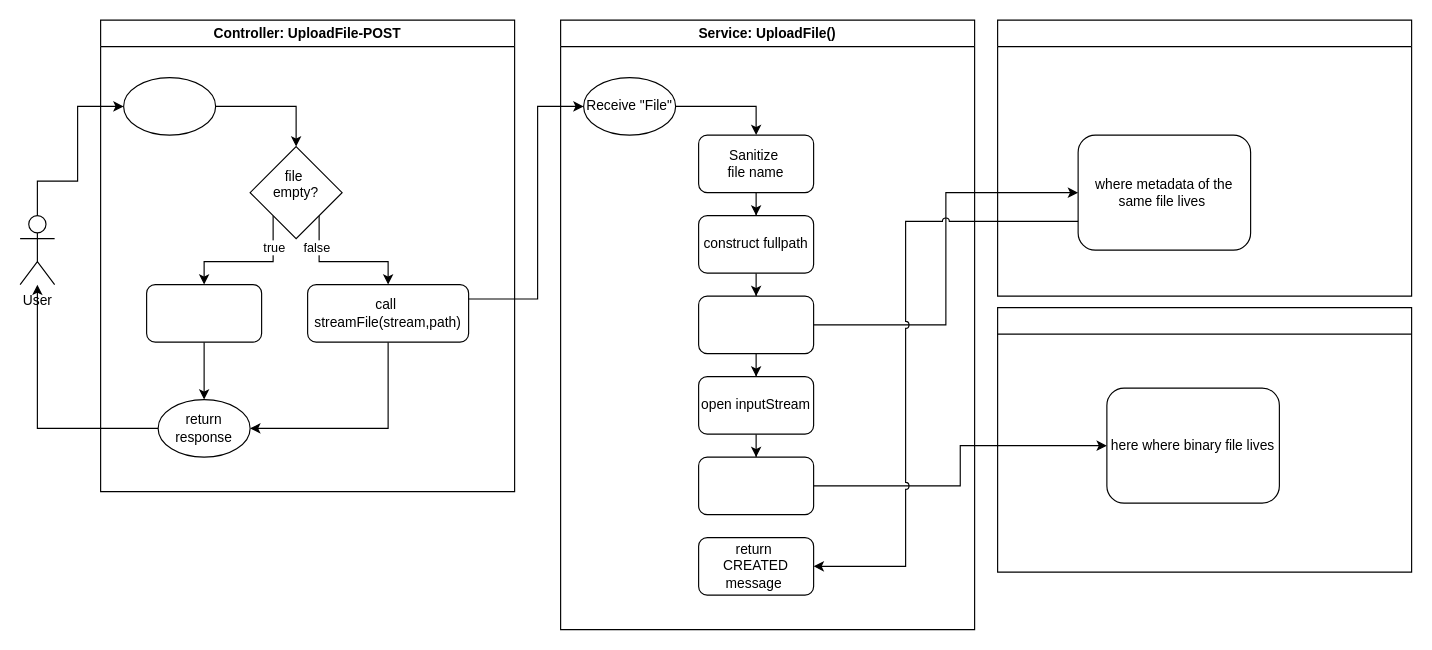
Image size: 1432x650. Some labels were removed from this diagram. The shapes that lost their labels are listed below. From the top down, each one's box as (x1, y1, x2, y2) in pixels, then its label:
(122, 76, 216, 135): Receive file
(996, 19, 1412, 296): Respository
(145, 283, 262, 342): return "file is empty" BAD_REQUEST
(697, 295, 814, 354): create directory
(996, 306, 1412, 572): Disk:
(697, 456, 814, 515): stream to server's disk (uploading)
